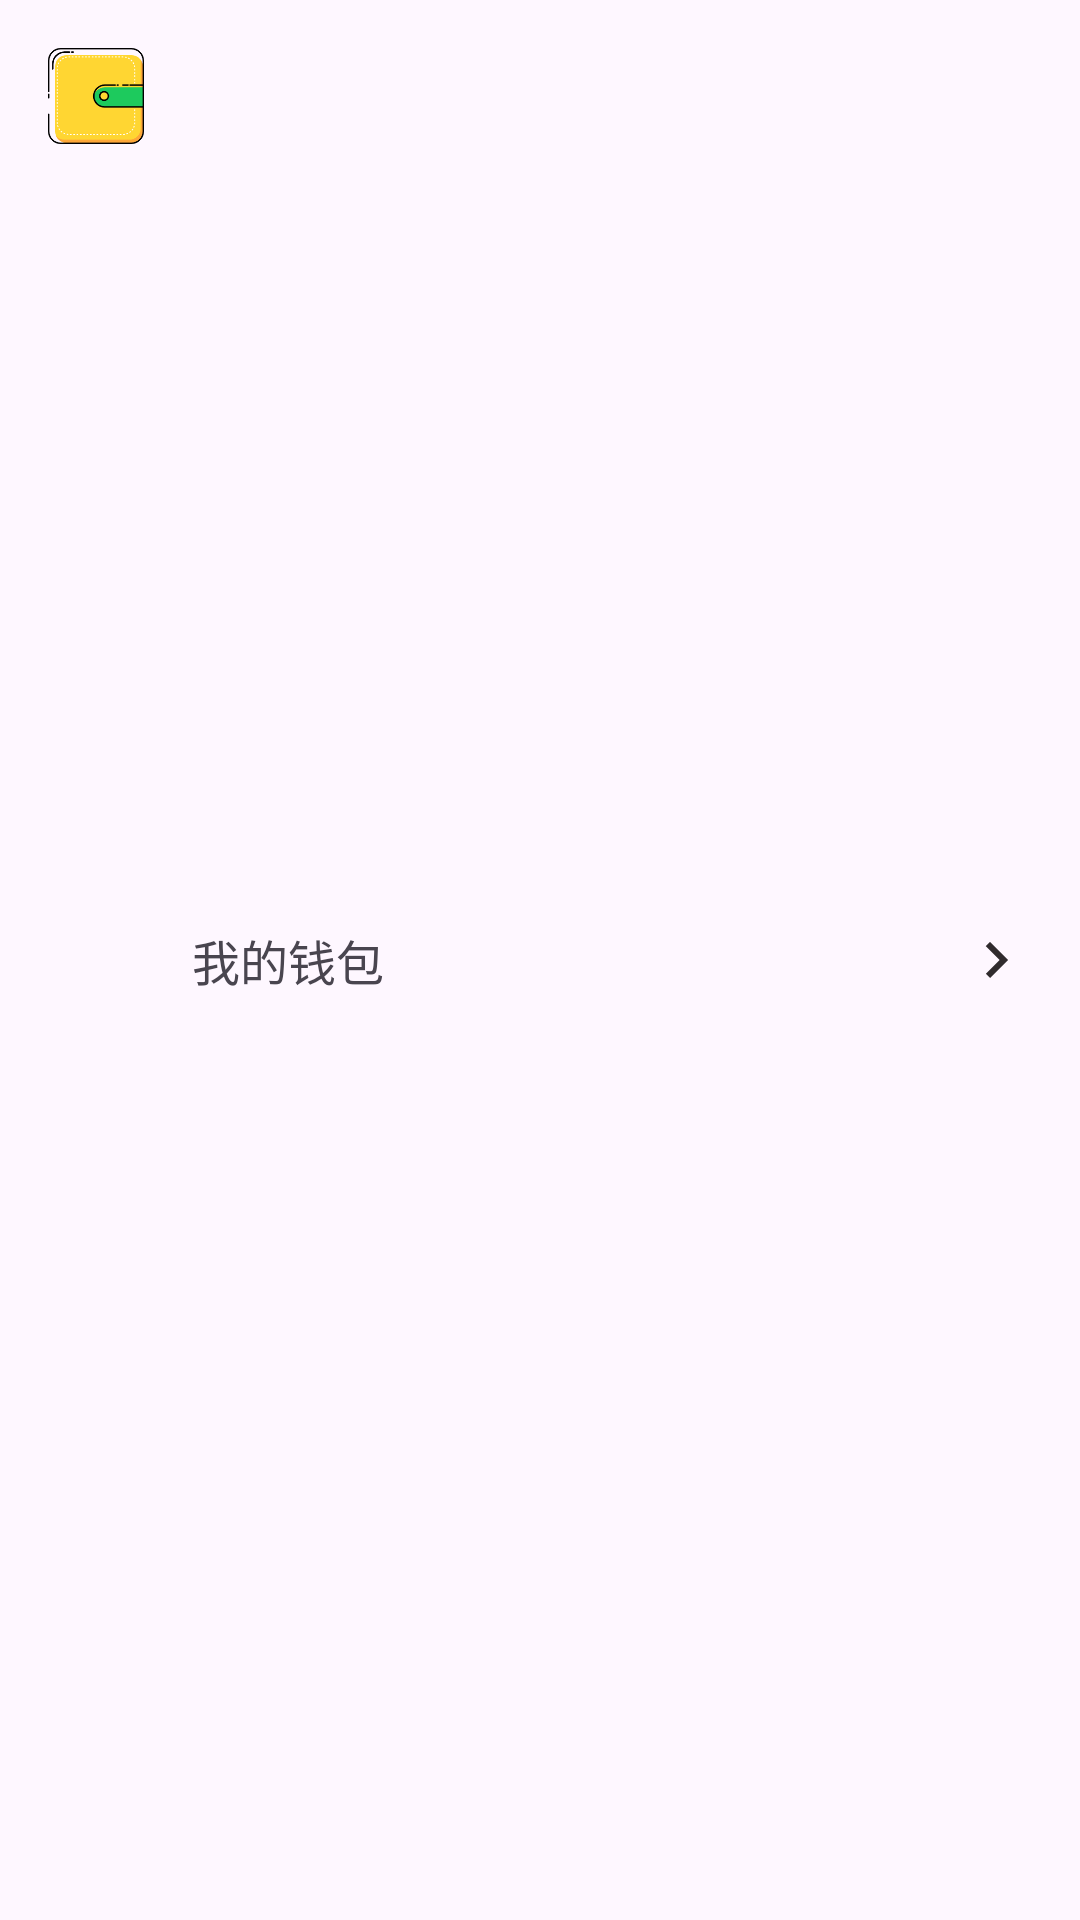

Locate icon controls on the screen. Image size 1080px×1920px, boxes as {"left": x1, "top": y1, "right": x2, "bottom": y2}.
keyboard arrow right: {"left": 986, "top": 942, "right": 1008, "bottom": 978}
wallet: {"left": 48, "top": 48, "right": 144, "bottom": 144}
